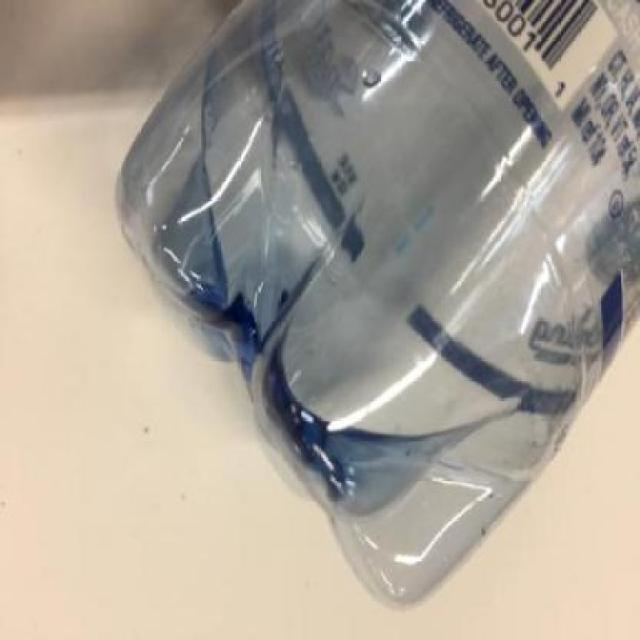PLASTIC: (116, 1, 638, 614)
